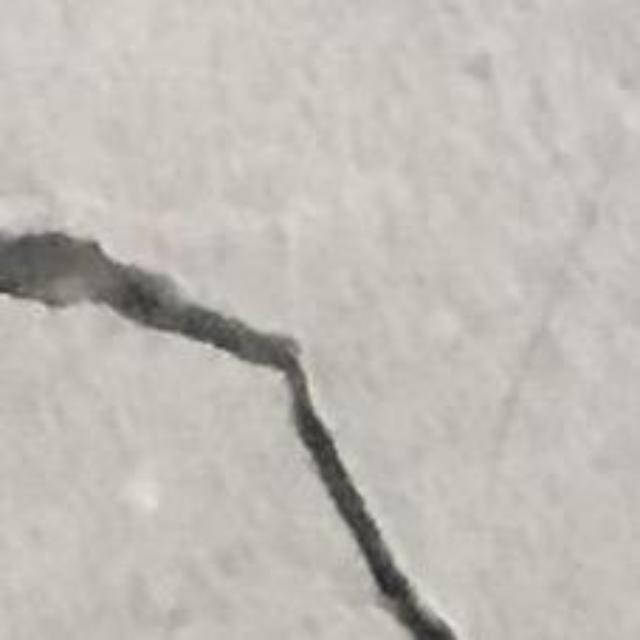crack: (0, 232, 459, 639)
